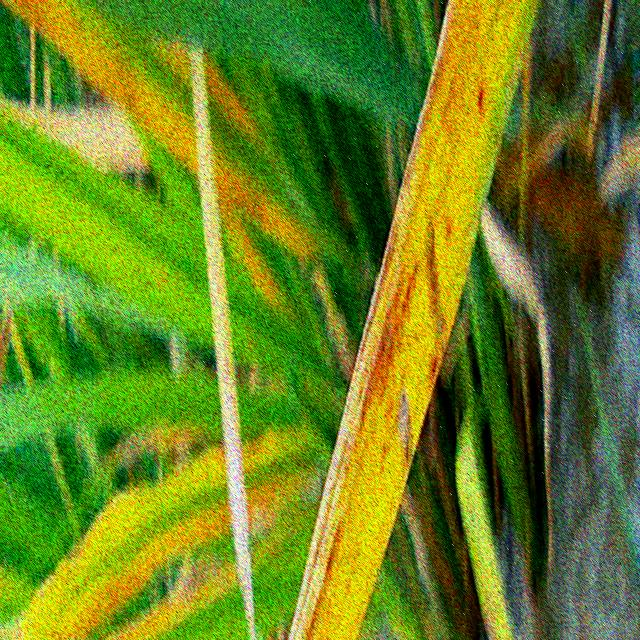NBS: (358, 225, 396, 367), (326, 527, 340, 574), (431, 356, 437, 373)
